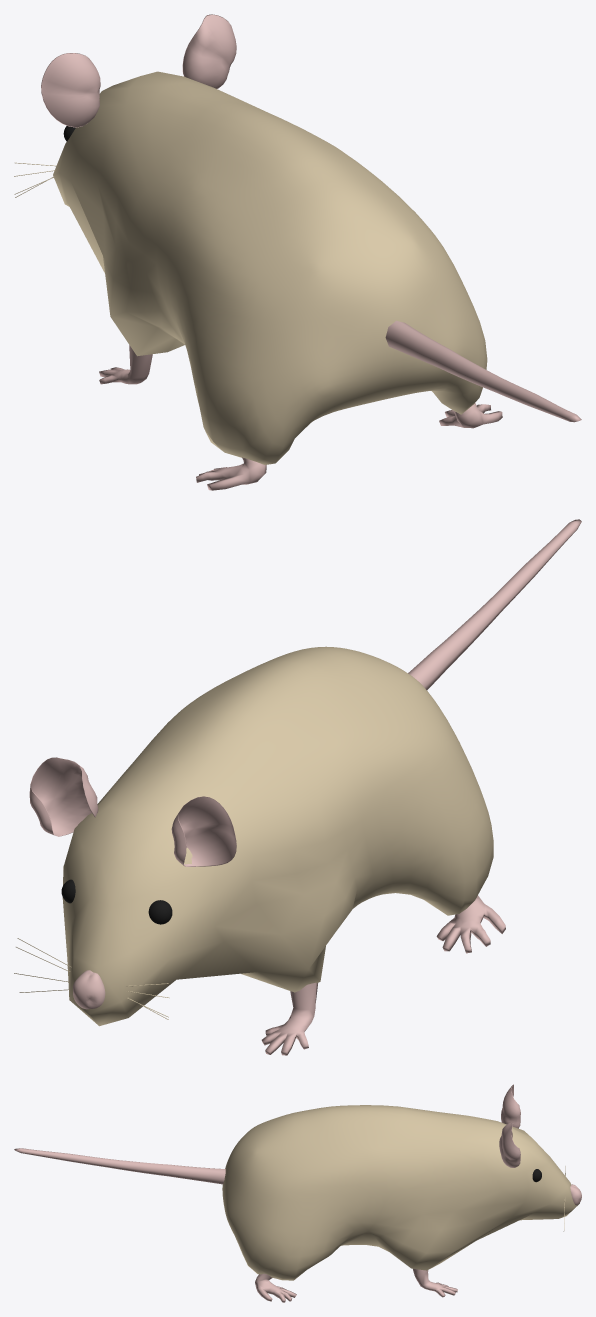
Rendered from LBSR_Mouse.fbx.
3 renders of one model, top to bottom at view 1: azimuth 30°, elevation 25°; view 2: azimuth 150°, elevation 25°; view 3: azimuth 270°, elevation 25°, orthographic. The views are drawn at different scales.
Visible parts, largest first — view 1: body, tail, ear_left, ear_right, leg_back_left, leg_front_left, leg_back_right; view 2: body, tail, ear_right, ear_left, leg_front_left, leg_back_left, nose; view 3: body, tail, ear_right, leg_back_right, ear_left, leg_front_right.
Part boxes in pixels (<box>): body: <box>53,71,487,464</box>; tail: <box>385,320,581,422</box>; ear_left: <box>41,53,100,127</box>; ear_right: <box>182,14,236,88</box>; leg_back_left: <box>196,457,266,490</box>; leg_front_left: <box>99,345,152,384</box>; leg_back_right: <box>439,403,502,428</box>; body: <box>62,646,493,1026</box>; tail: <box>408,519,581,690</box>; ear_right: <box>29,757,98,836</box>; ear_left: <box>171,796,236,866</box>; leg_front_left: <box>261,982,317,1055</box>; leg_back_left: <box>436,895,505,953</box>; nose: <box>73,970,105,1009</box>; body: <box>222,1105,579,1280</box>; tail: <box>14,1148,225,1184</box>; ear_right: <box>499,1122,520,1167</box>; leg_back_right: <box>255,1273,296,1302</box>; ear_left: <box>501,1084,520,1128</box>; leg_front_right: <box>413,1269,457,1297</box>.
Size of the model in its own units: 0.1082 by 0.1004 by 0.314.
